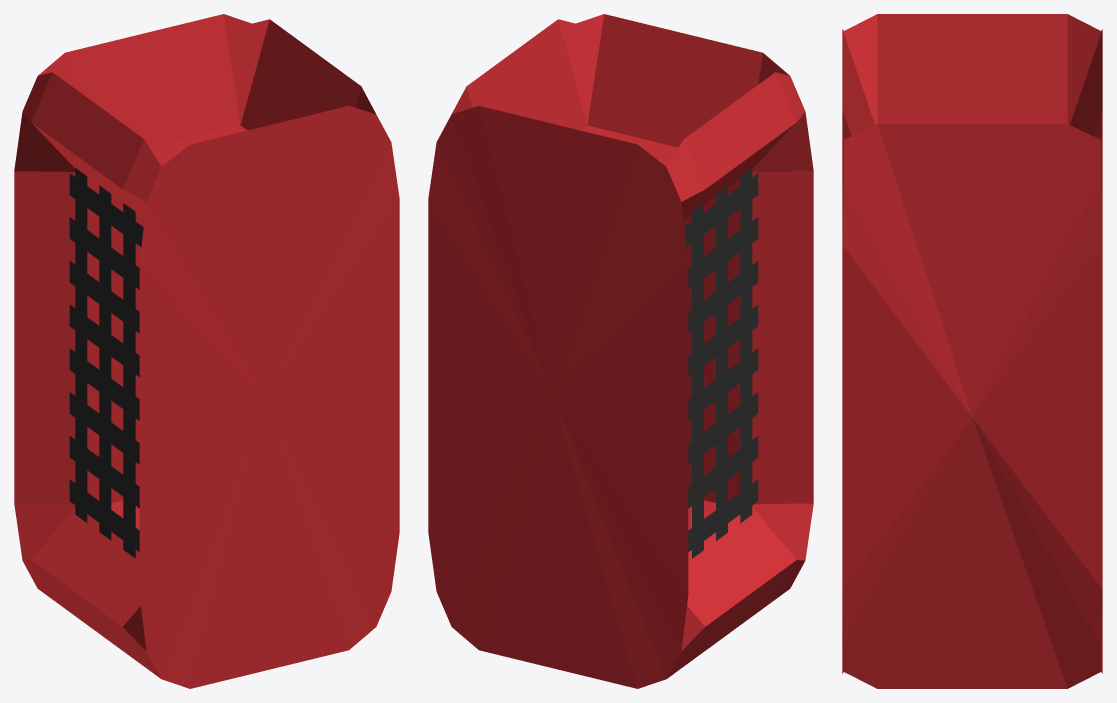
3 views of the same model, side by side, from view 1: azimuth 30°, elevation 25°; view 2: azimuth 150°, elevation 25°; view 3: azimuth 270°, elevation 25° (orthographic). The views are drawn at different scales.
Visible parts, largest first — view 1: Box; view 2: Box; view 3: Box.
Boxes of the visible parts, x1=… form: Box: x1=14, y1=14, x2=399, y2=688; Box: x1=428, y1=14, x2=813, y2=688; Box: x1=842, y1=14, x2=1102, y2=688.
Size of what is drawn, in the model's own units: 830 by 1660 by 693.
